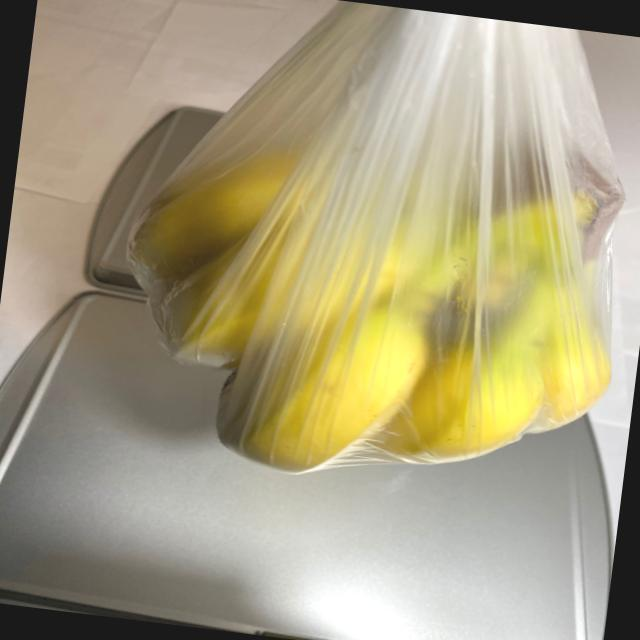banana: (84, 66, 640, 510)
